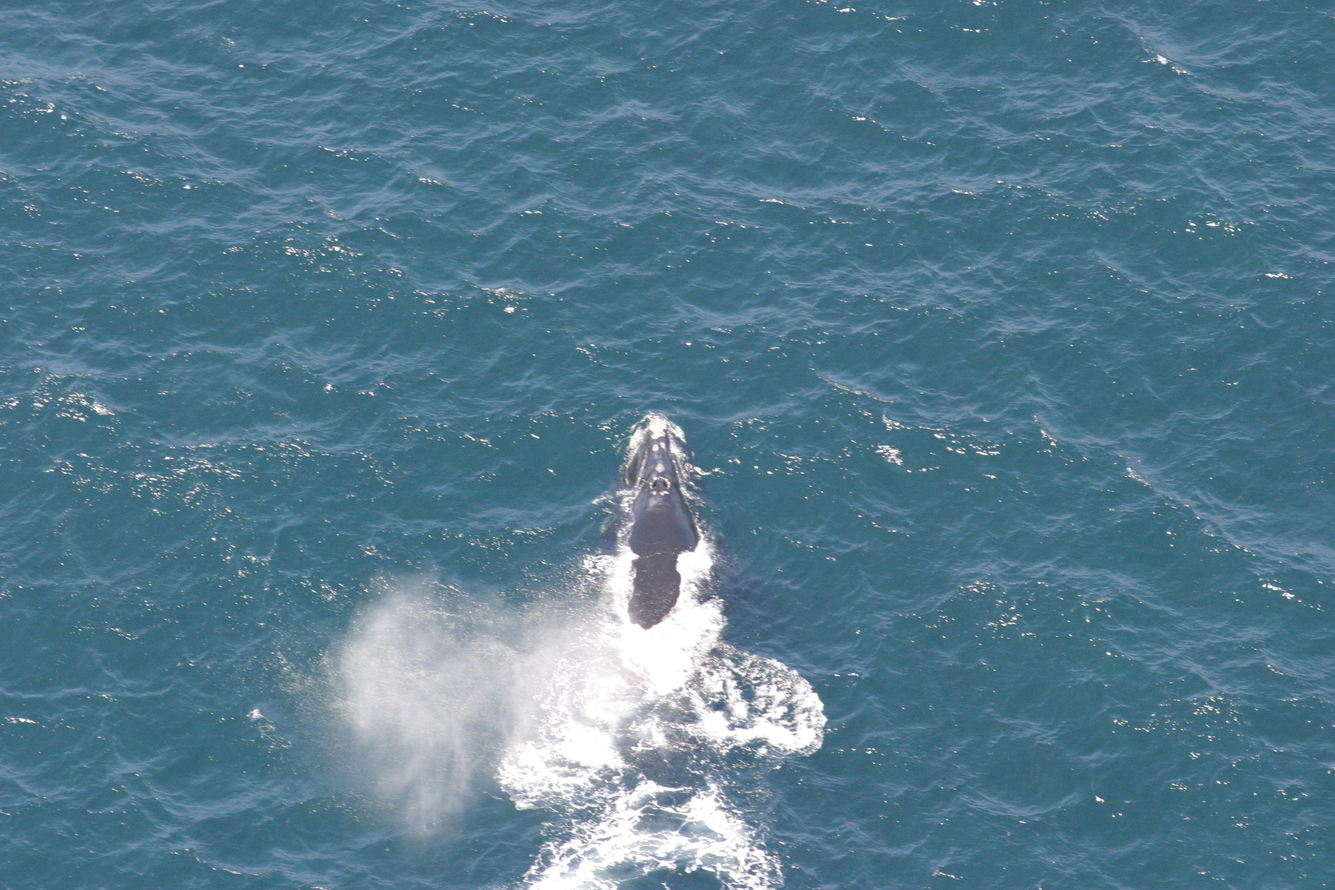whale: (537, 406, 788, 890)
